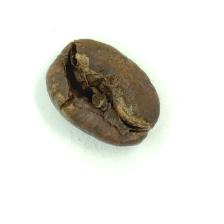NG: (60, 51, 138, 128)
